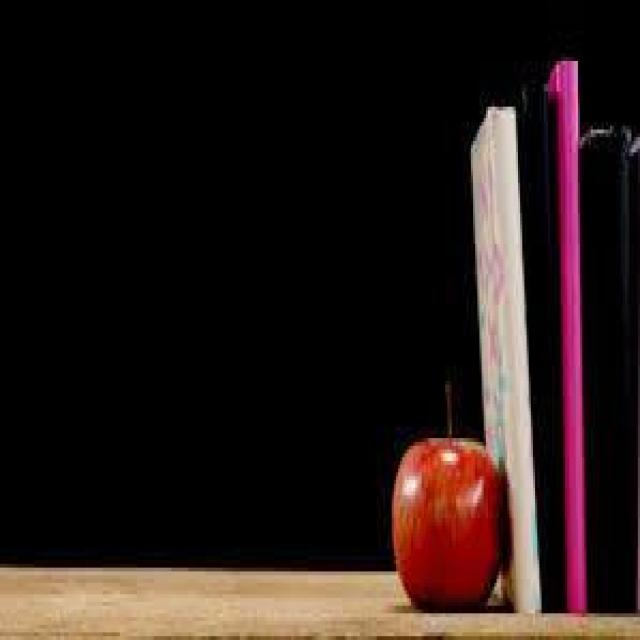maca: (390, 430, 505, 610)
